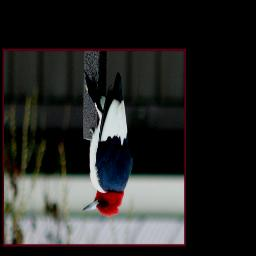Woodpecker: (82, 67, 134, 221)
